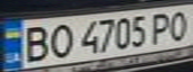0: (115, 15, 133, 49)
4: (75, 17, 100, 54)
5: (130, 12, 151, 47)
7: (97, 16, 118, 52)
B: (18, 22, 54, 63)
O: (45, 21, 75, 60), (163, 8, 190, 42)
P: (148, 10, 175, 45)
